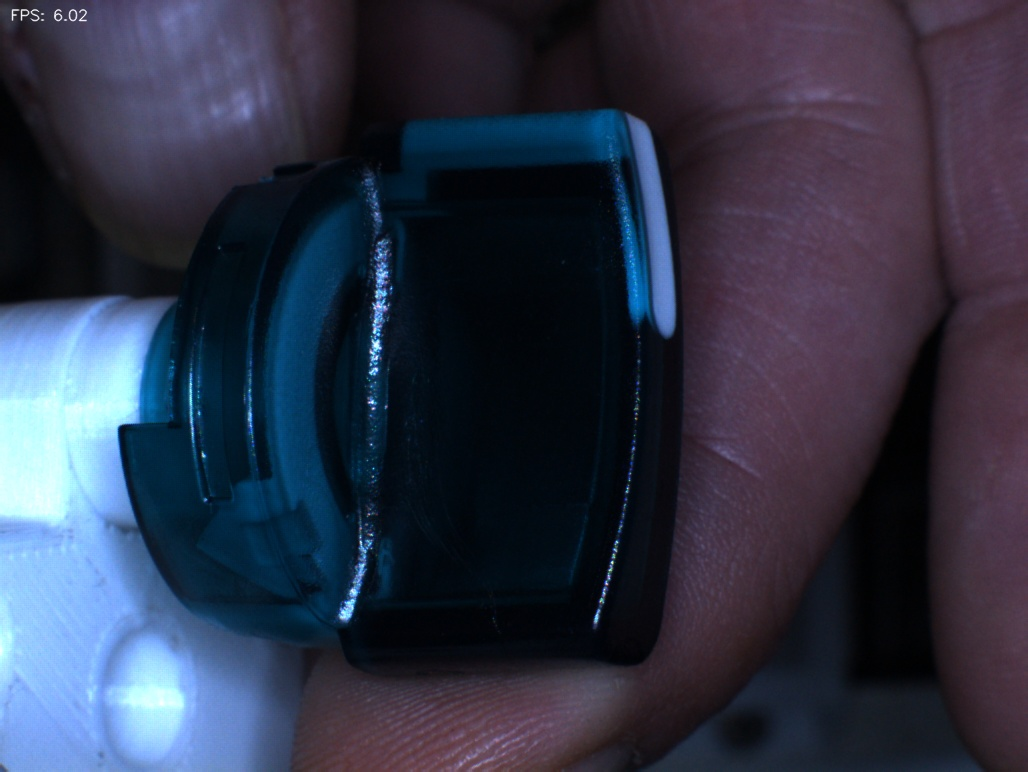Givrage: (399, 372, 515, 629)
